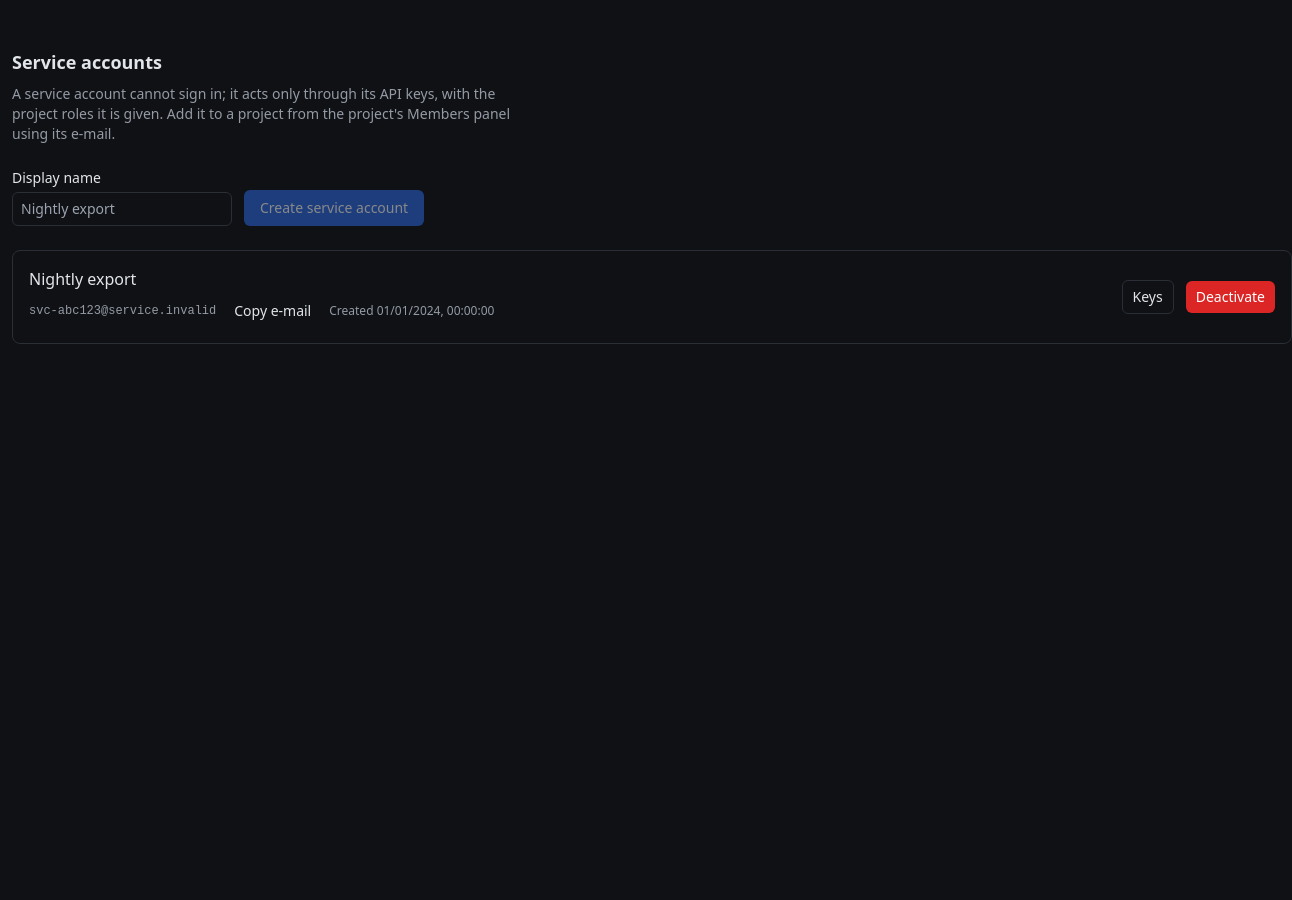
Scenario: ServiceAccountsPanel › lists the account keys and mints one for the account
Click the button with aria-label "Show keys for Nightly export". click: (1148, 297)
box: [1122,280,1174,314]
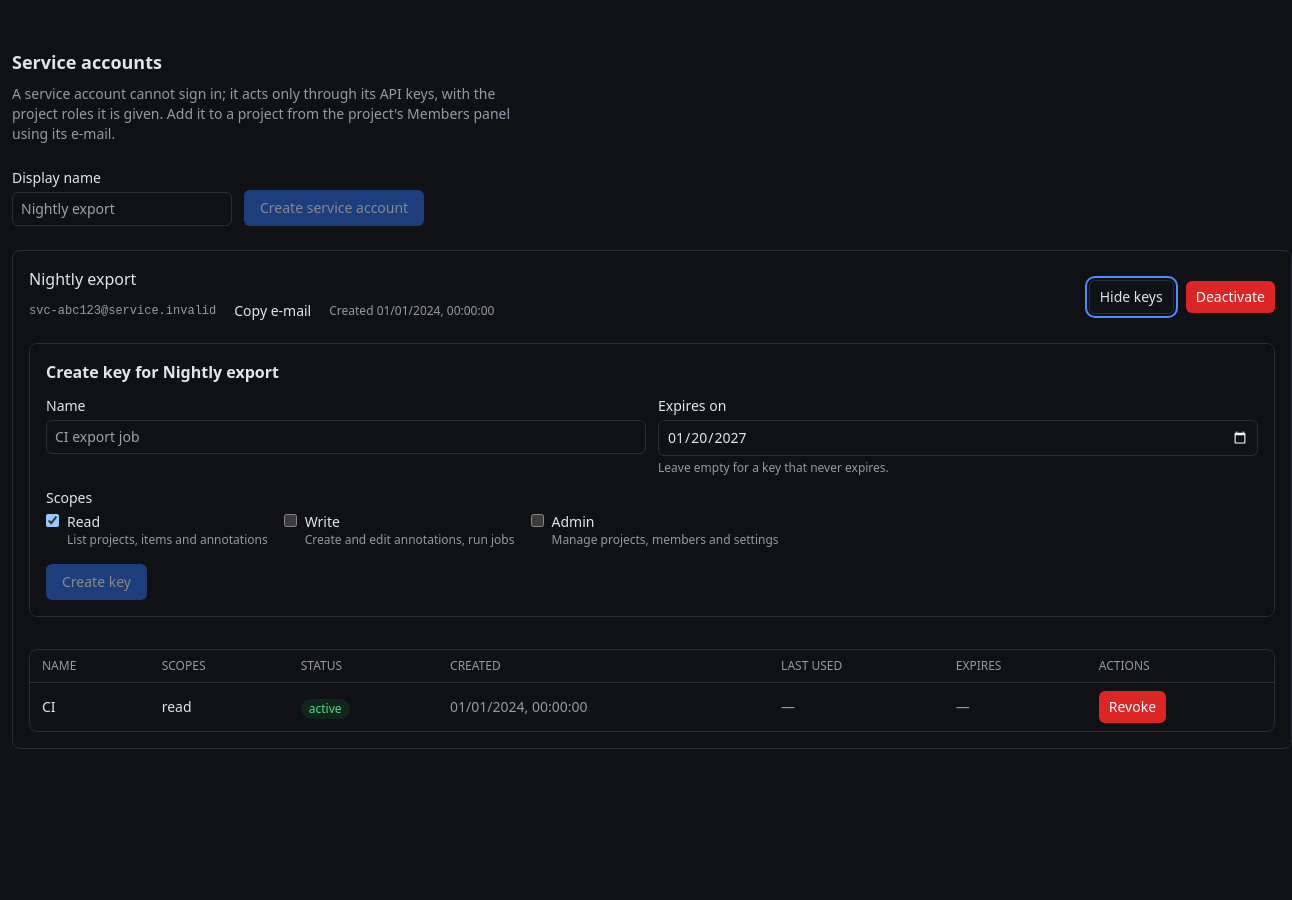
Check: the button with aria-label "Revoke CI" is shown, box [1099,691,1166,723]
Type "Export" into the field labelled "Name". click: (346, 437)
box: [46,420,646,454]
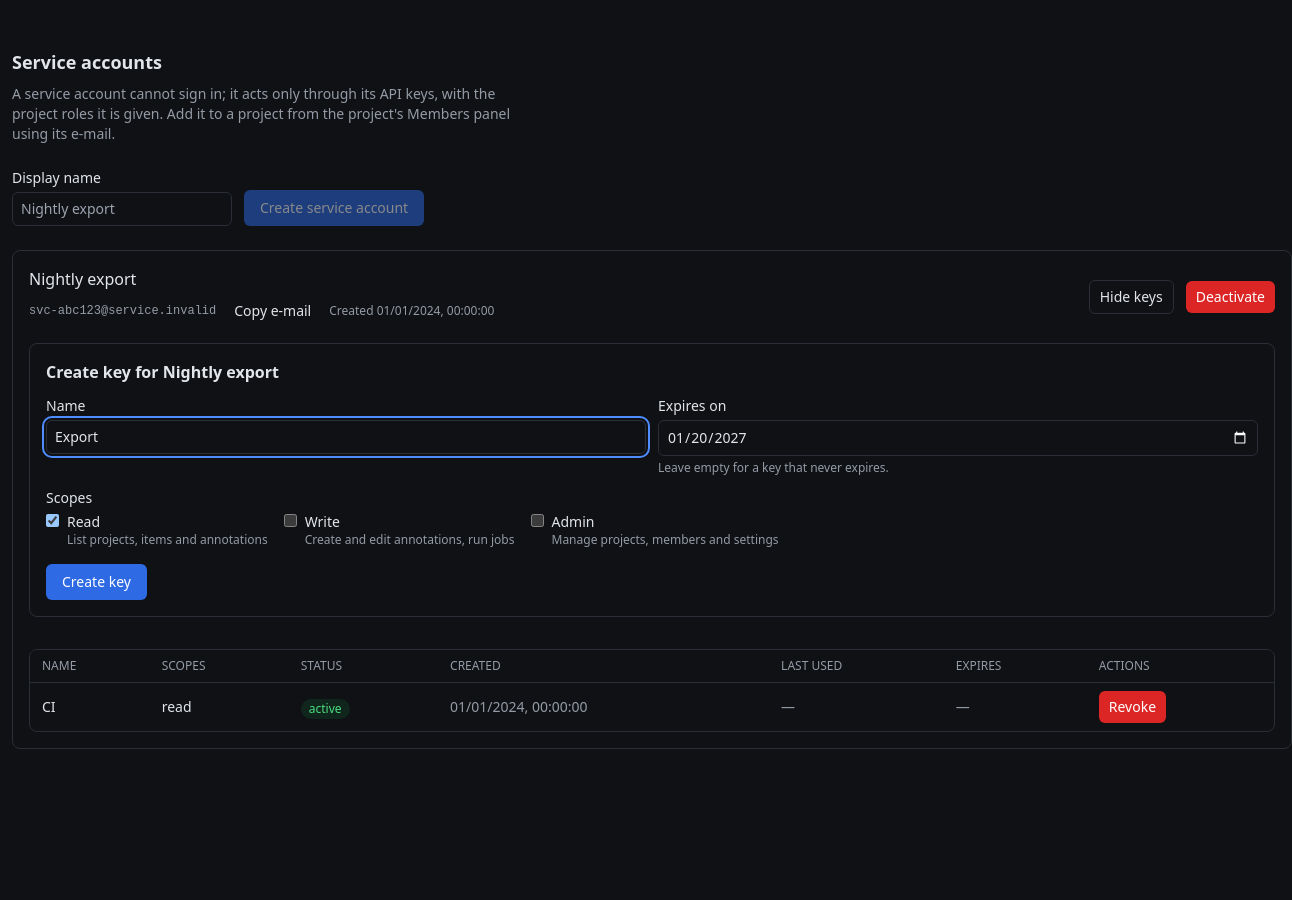
Clear the date field labelled "Expires on". click: (958, 438)
box: [658,420,1258,456]
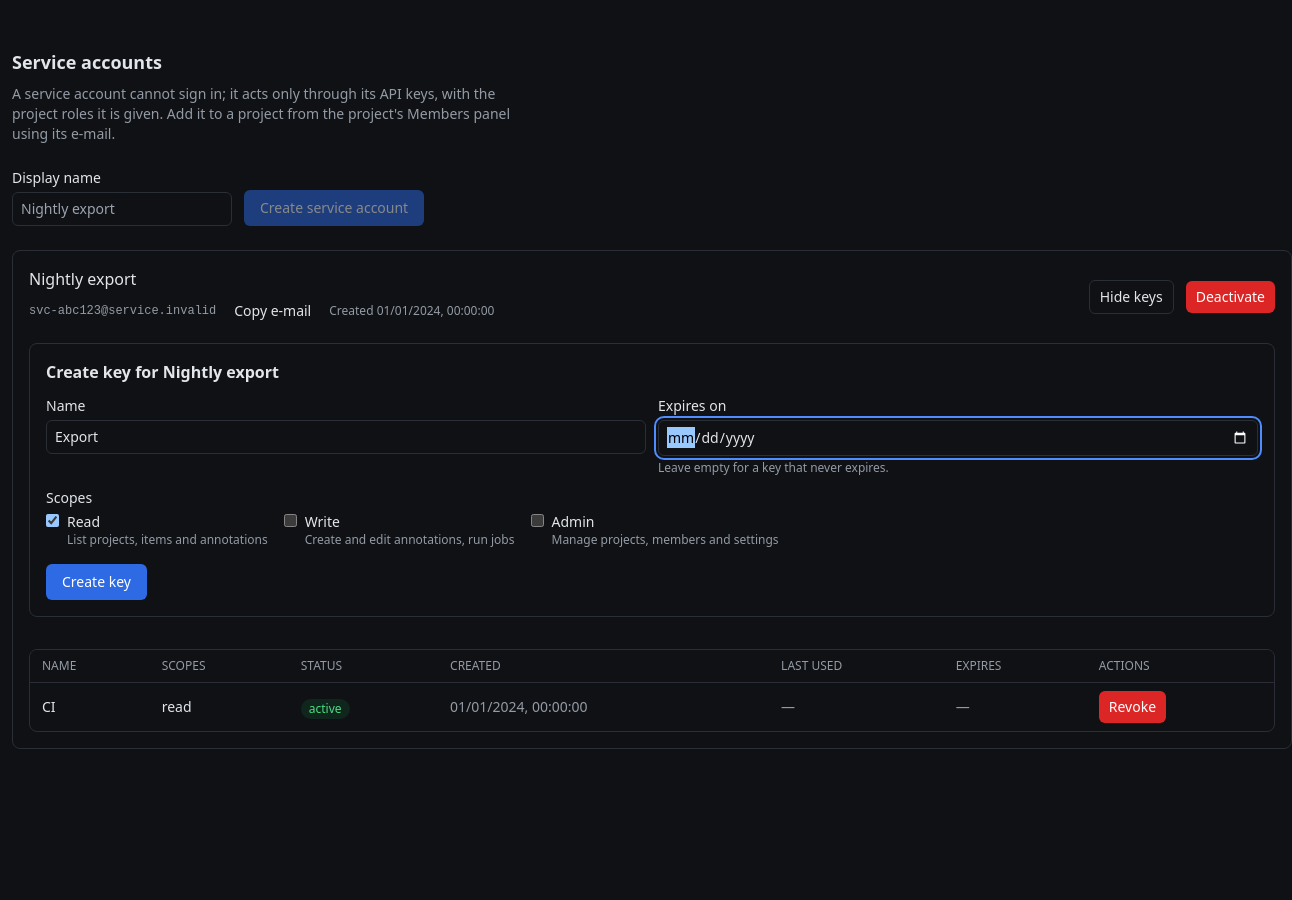
Click the button "Create key". click: (96, 582)
box: [46,564,147,600]
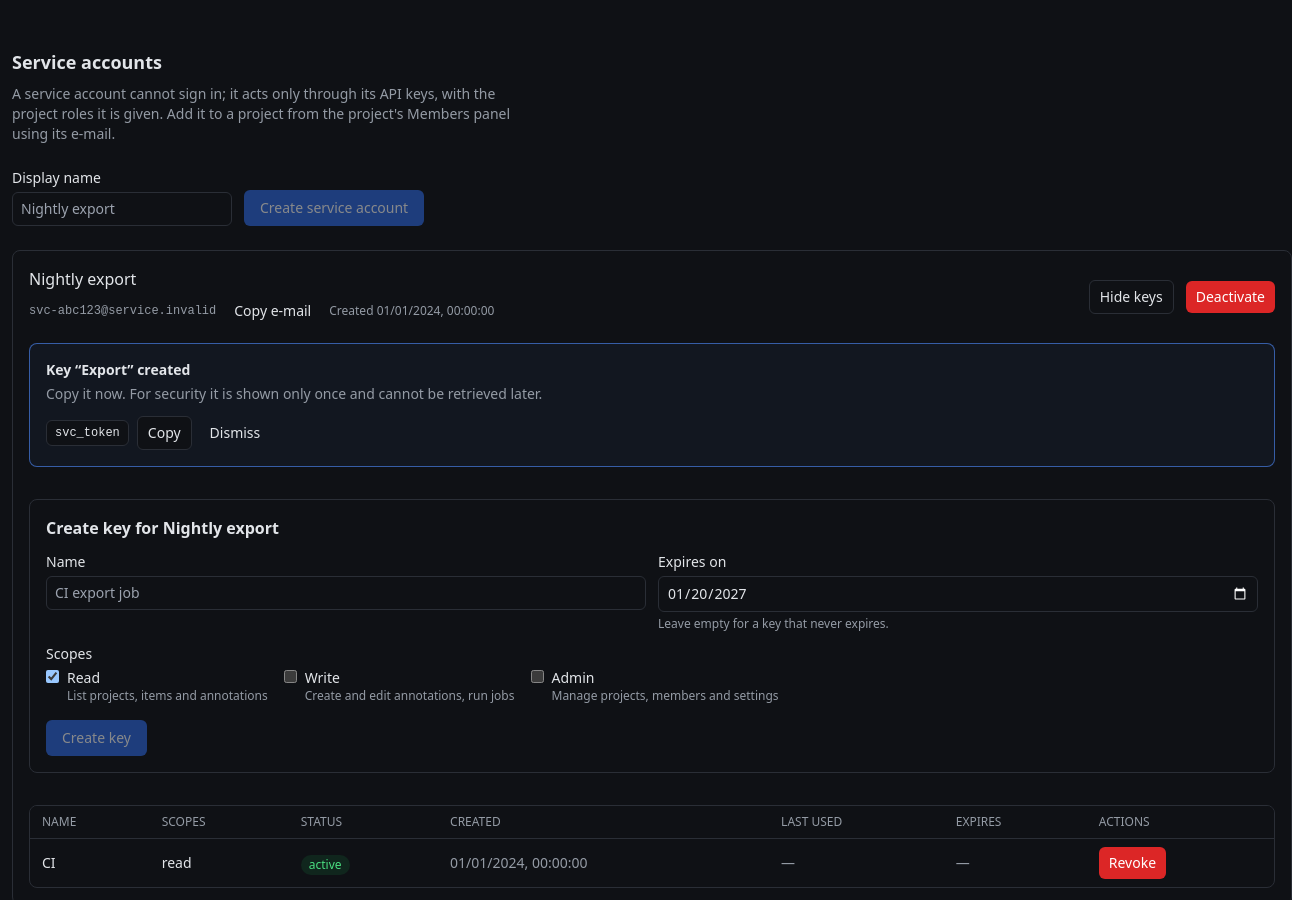
Check: the text named "API key token" reads "svc_token", box [55,426,120,440]
